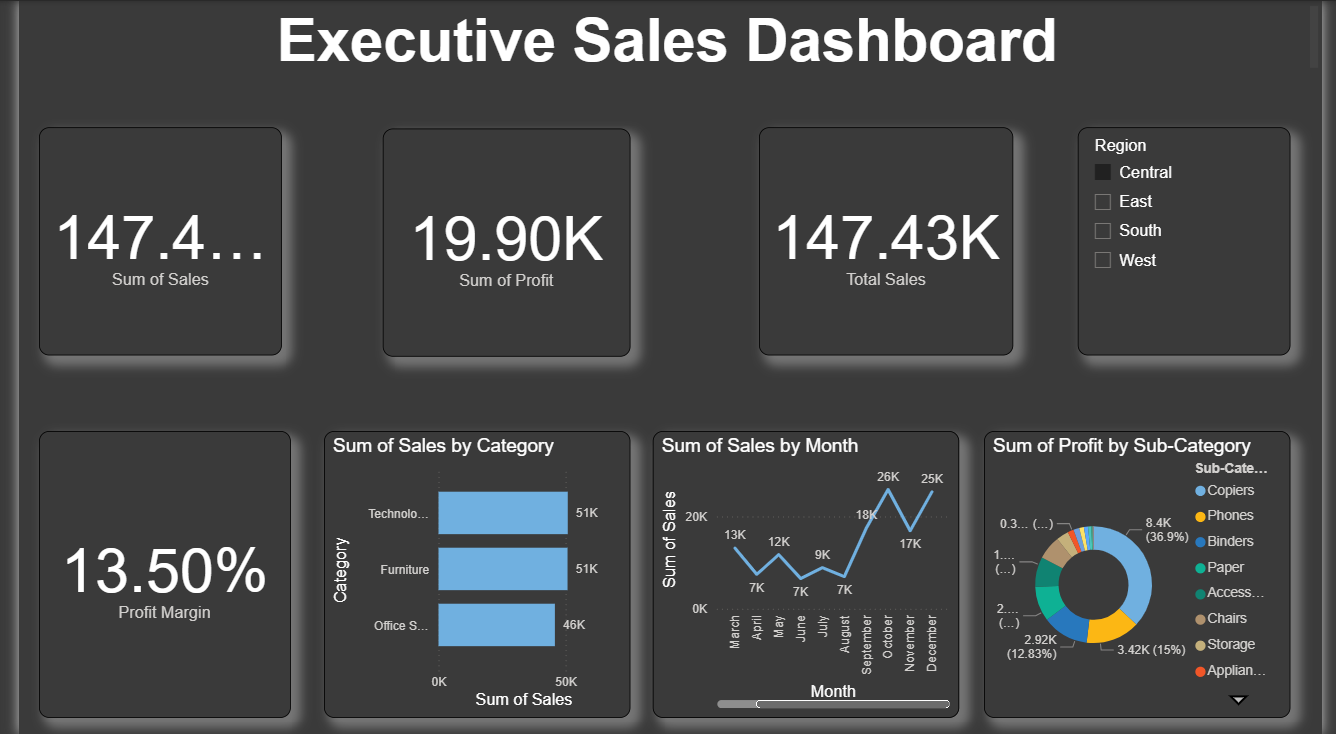

What the dashboard file says about the page in this screenshot:
{"tool":"powerbi","page":{"name":"Page 1","canvas":[1280,720],"ordinal":0},"visuals":[{"type":"clusteredBarChart","fields":{"Category":["Sample - Superstore.Category"],"Y":["Sum(Sample - Superstore.Sales)"]},"box":[299.1,422.6,300.5,281.3],"z":0},{"type":"card","fields":{"Values":["Sum(Sample - Superstore.Sales)"]},"box":[19.2,123.5,238.8,223.7],"z":1000},{"type":"card","fields":{"Values":["Sum(Sample - Superstore.Profit)"]},"box":[356.8,124.9,242.9,223.7],"z":2000},{"type":"donutChart","fields":{"Category":["Sample - Superstore.Sub-Category"],"Y":["Sum(Sample - Superstore.Profit)"]},"box":[946.8,422.6,300.5,281.3],"z":3000},{"type":"lineChart","fields":{"Category":["Sample - Superstore.Order Date.Variation.Date Hierarchy.Year","Sample - Superstore.Order Date.Variation.Date Hierarchy.Quarter","Sample - Superstore.Order Date.Variation.Date Hierarchy.Month","Sample - Superstore.Order Date.Variation.Date Hierarchy.Day"],"Y":["Sum(Sample - Superstore.Sales)"]},"box":[621.6,422.6,300.5,281.3],"z":4000},{"type":"slicer","fields":{"Values":["Sample - Superstore.Region"]},"box":[1038.8,123.5,208.6,223.7],"z":5000},{"type":"textbox","box":[0,0,1280.3,74.1],"z":6000},{"type":"card","fields":{"Values":["Sample - Superstore.Total Sales"]},"box":[725.9,123.5,249.7,223.7],"z":7000},{"type":"card","fields":{"Values":["Sample - Superstore.Profit Margin"]},"box":[19.2,422.6,247,281.3],"z":8000}]}

Visuals, with their boxes in screenshot pixels (x1, y1, x2, y2), scaled from the page's 1280x720 canvas onto the 1336x734 screenshot:
clusteredBarChart - Sample - Superstore.Category x Sum(Sample - Superstore.Sales): <bbox>312, 431, 626, 718</bbox>
card - Sum(Sample - Superstore.Sales): <bbox>20, 126, 269, 354</bbox>
card - Sum(Sample - Superstore.Profit): <bbox>372, 127, 626, 355</bbox>
donutChart - Sample - Superstore.Sub-Category x Sum(Sample - Superstore.Profit): <bbox>988, 431, 1302, 718</bbox>
lineChart - Sample - Superstore.Order Date.Variation.Date Hierarchy.Year x Sample - Superstore.Order Date.Variation.Date Hierarchy.Quarter: <bbox>649, 431, 962, 718</bbox>
slicer - Sample - Superstore.Region: <bbox>1084, 126, 1302, 354</bbox>
textbox: <bbox>0, 0, 1335, 76</bbox>
card - Sample - Superstore.Total Sales: <bbox>758, 126, 1018, 354</bbox>
card - Sample - Superstore.Profit Margin: <bbox>20, 431, 278, 718</bbox>
